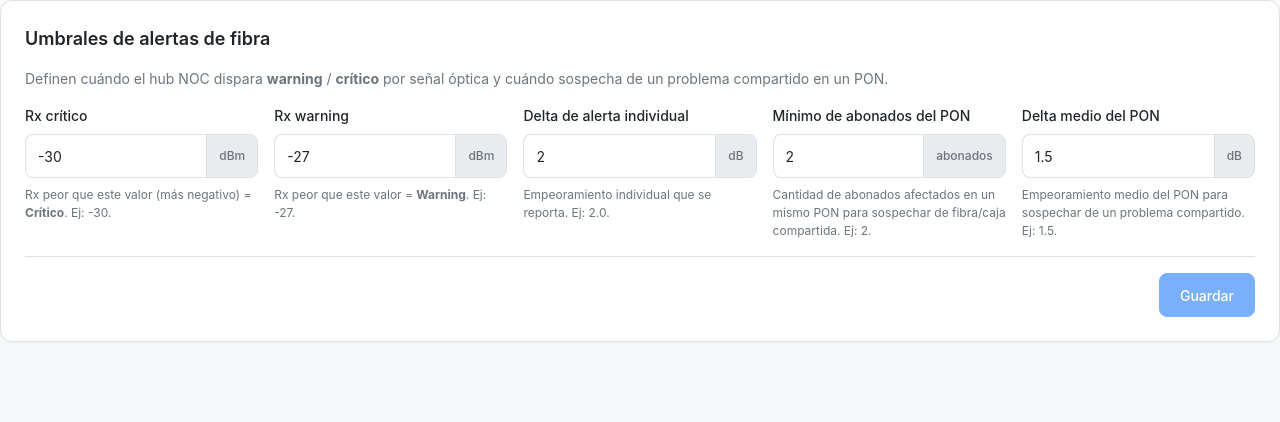
it: NocAlertThresholdsEditor › rejects critDbm worse (less negative) than warnDbm — inverted thresholds
Replace the text in the number field labelled "Rx crítico" with "-20" at (116, 156), box left=25, top=134, right=206, bottom=178
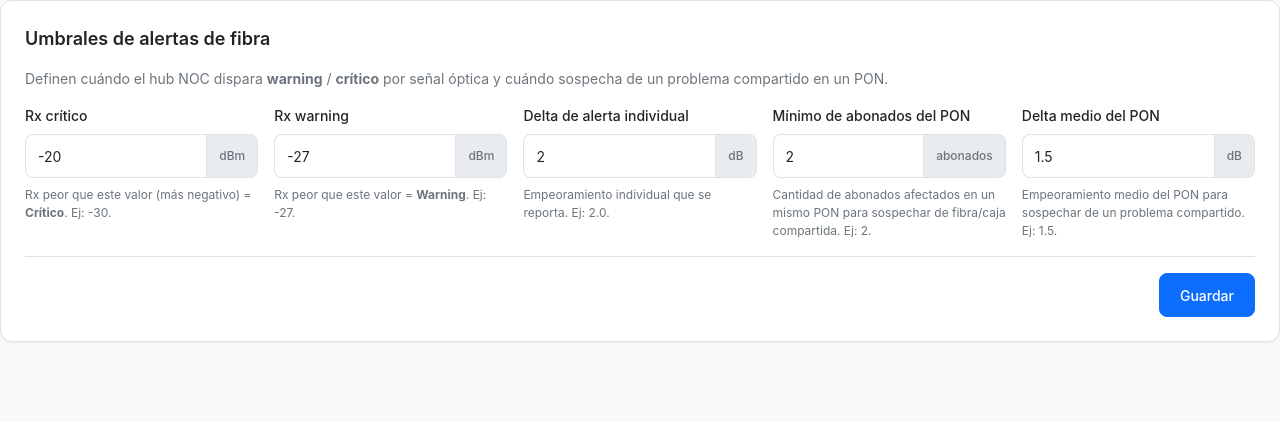
Click the button "Guardar" at (1207, 295), box left=1159, top=273, right=1255, bottom=317
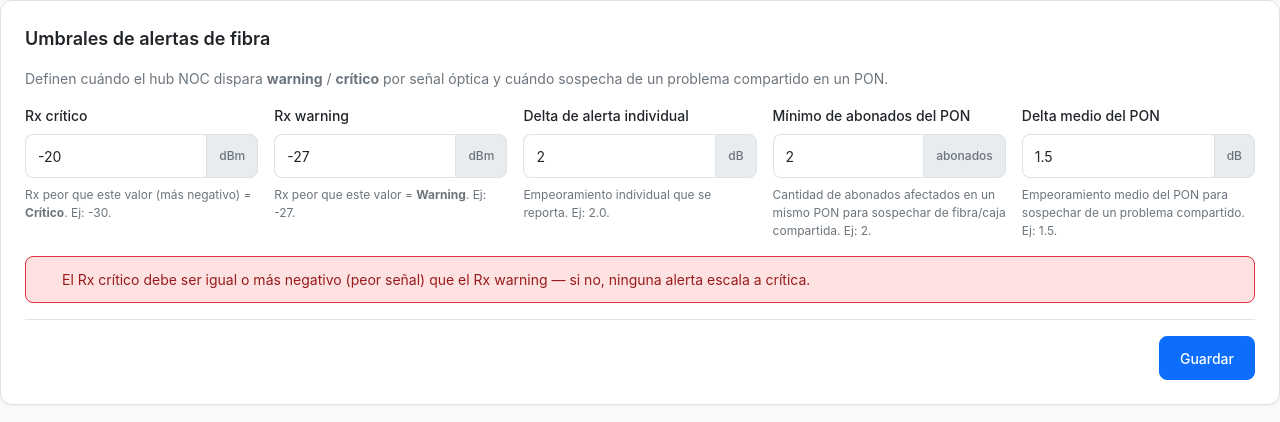
expect the list item is shown: met, box left=62, top=271, right=810, bottom=288
